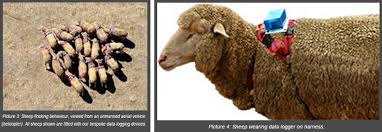sheep: (159, 4, 378, 117), (65, 69, 85, 97), (94, 57, 108, 89), (38, 25, 57, 47), (85, 56, 98, 88), (69, 28, 84, 54), (102, 24, 128, 39), (103, 50, 120, 72), (93, 21, 110, 43), (39, 43, 52, 69), (58, 38, 75, 57), (74, 19, 95, 34), (78, 53, 88, 83), (51, 55, 64, 77), (81, 31, 92, 56), (90, 37, 100, 61), (106, 41, 124, 52)
